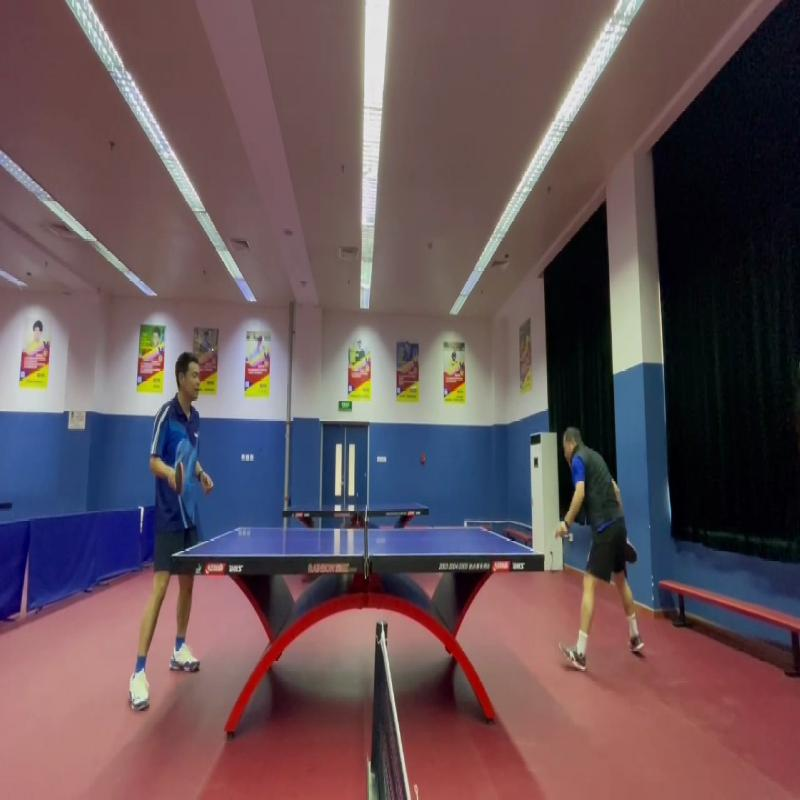bats: (168, 457, 191, 503)
